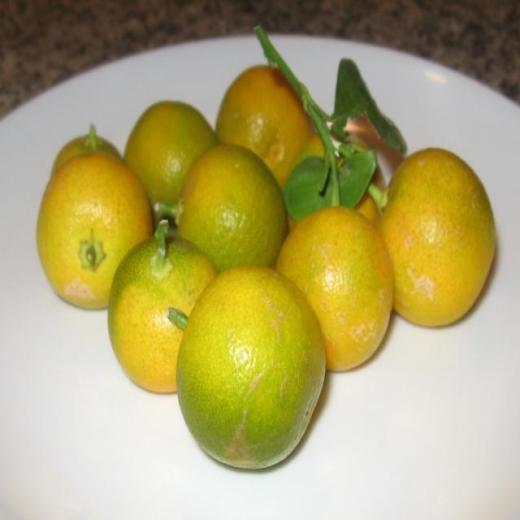Grape: (37, 64, 495, 470)
